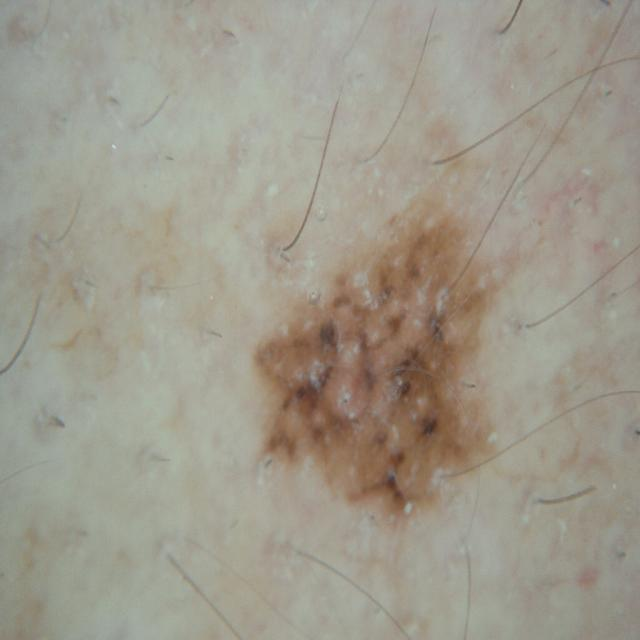Skin-Cancer Melanoma: (191, 104, 552, 610)
